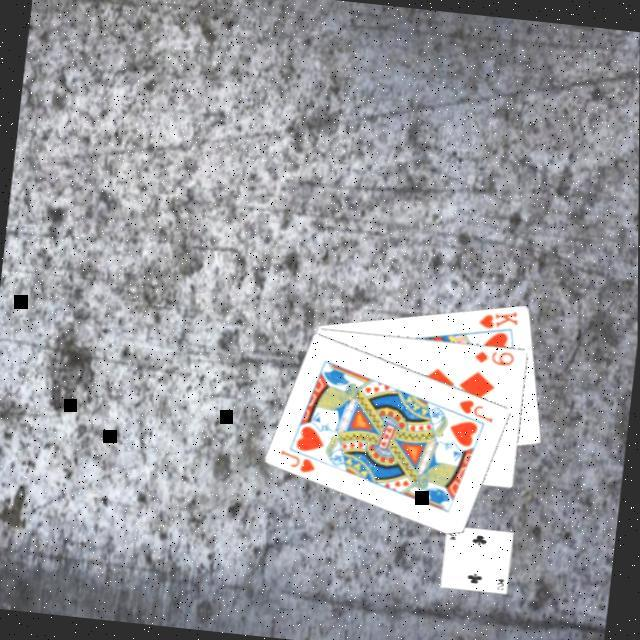9D: (472, 348, 519, 371)
JH: (456, 397, 501, 428), (278, 448, 322, 478)
KH: (477, 305, 524, 336)
